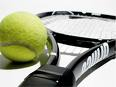tennis ball: (1, 9, 49, 64)
